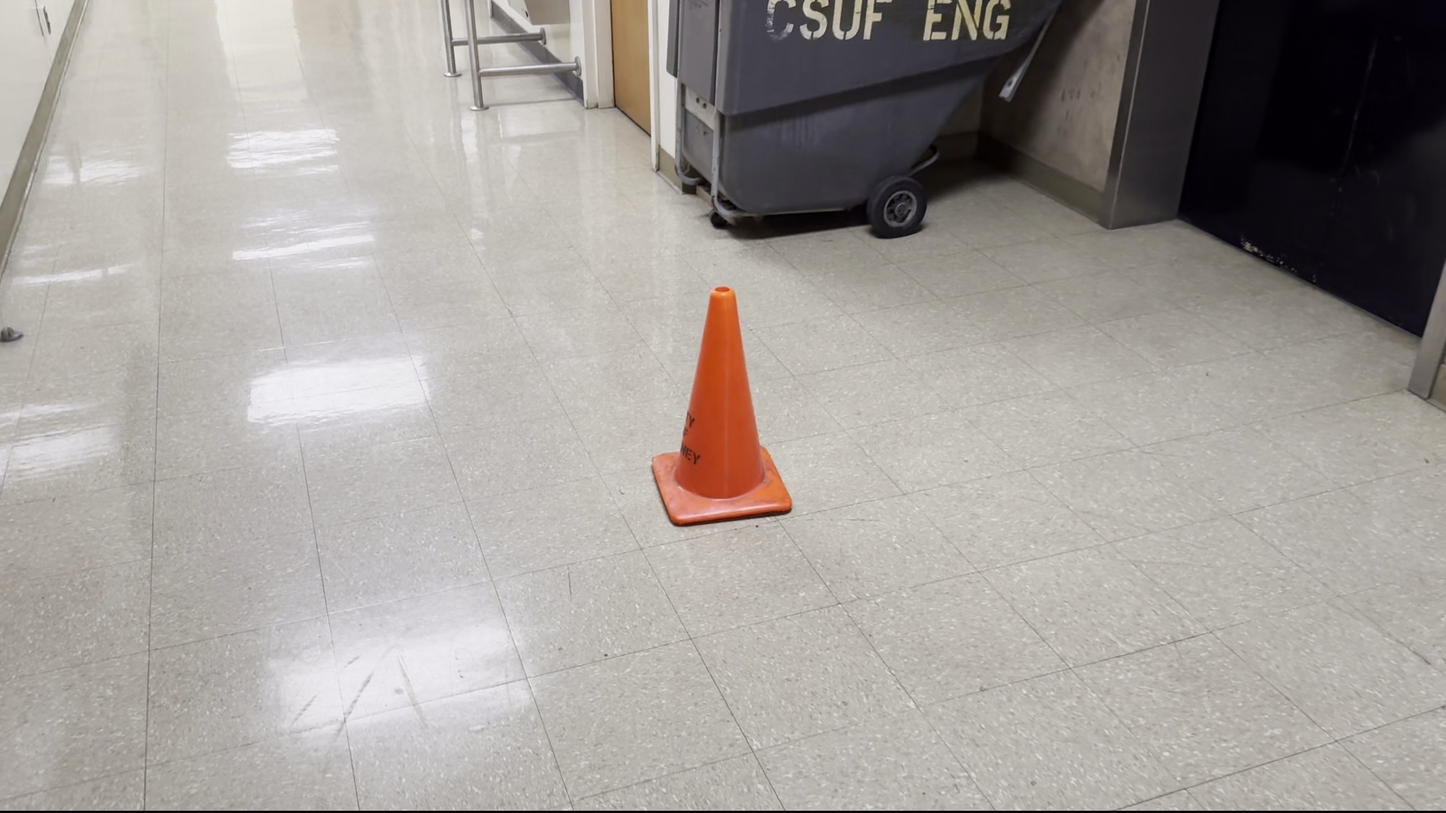traffic_cone: (650, 285, 793, 527)
